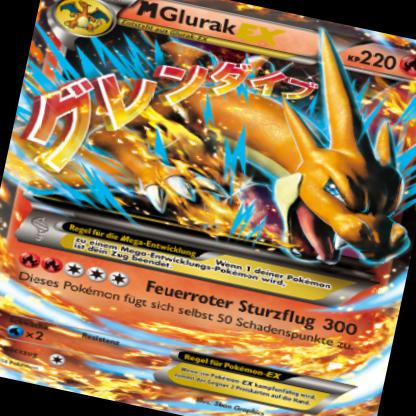Charizard: (77, 27, 416, 285)
